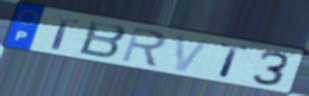3: (251, 50, 292, 87)
B: (76, 19, 129, 60)
R: (119, 26, 168, 69)
T: (218, 42, 252, 80), (50, 14, 81, 52)
V: (174, 32, 215, 74)
